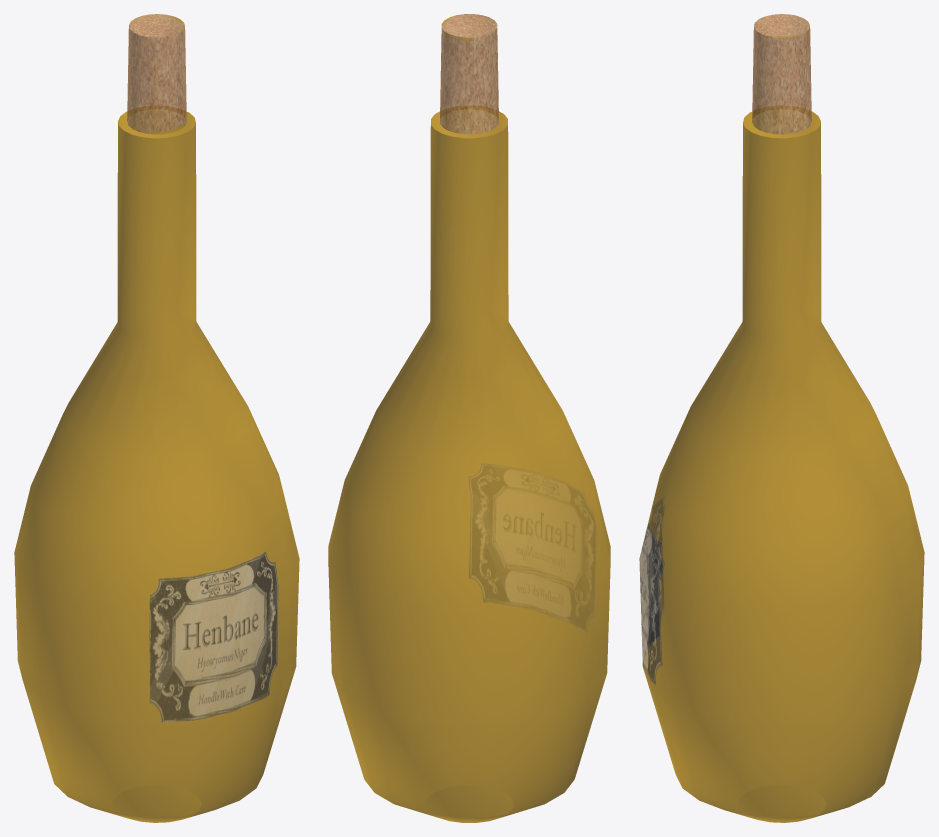
File: Potion yellow.fbx
3 views of the same model, side by side, from view 1: azimuth 30°, elevation 25°; view 2: azimuth 150°, elevation 25°; view 3: azimuth 270°, elevation 25° (orthographic).
Parts seen in each view (by area): view 1: pasted__pasted__pCylinder9; view 2: pasted__pasted__pCylinder9; view 3: pasted__pasted__pCylinder9.
Boxes of the visible parts, x1,y1,x2,y2 form: pasted__pasted__pCylinder9: (14,14,299,822); pasted__pasted__pCylinder9: (328,14,610,822); pasted__pasted__pCylinder9: (639,14,924,822).
Bounding box in the file's own units: 0.4815 × 1.45 × 0.4815.
